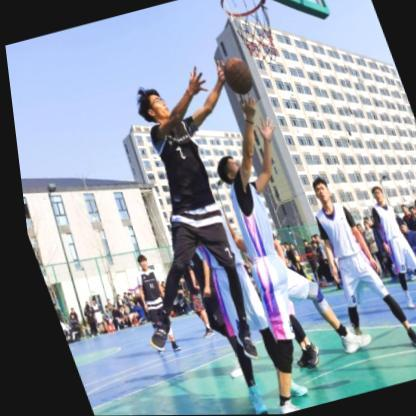basketball: (216, 54, 255, 98)
rim: (215, 0, 287, 69)
